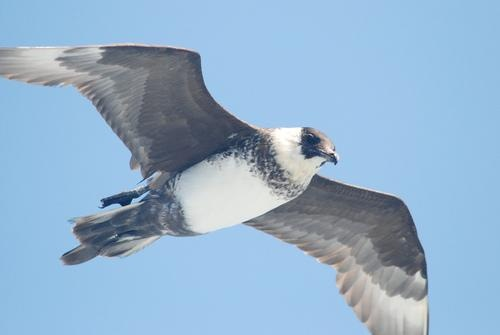bird: (1, 42, 430, 335)
